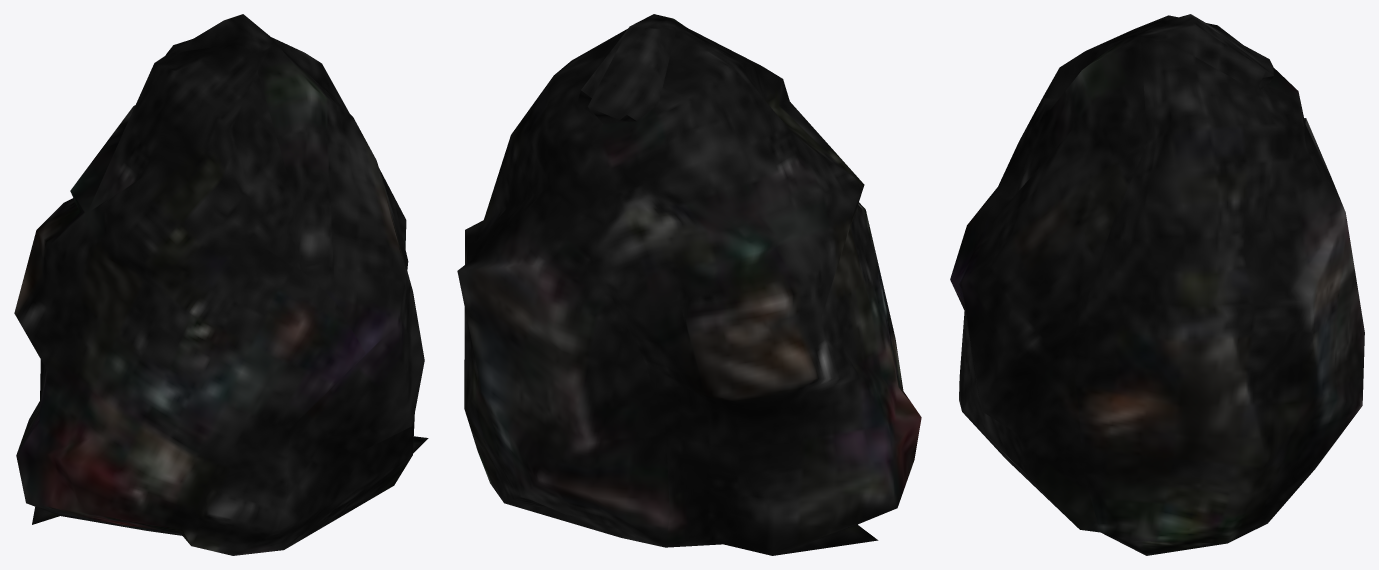
Rendered from trashbag.glb.
3 views of the same model, side by side, from view 1: azimuth 30°, elevation 25°; view 2: azimuth 150°, elevation 25°; view 3: azimuth 270°, elevation 25° (orthographic). The views are drawn at different scales.
Parts seen in each view (by area): view 1: trashbag; view 2: trashbag; view 3: trashbag.
Part boxes in pixels (<box>): trashbag: <box>14,14,428,555</box>; trashbag: <box>457,14,921,555</box>; trashbag: <box>950,14,1364,555</box>.
Size of the model in its own units: 0.5186 by 0.5675 by 0.4629.
1 material, 1 textured.
